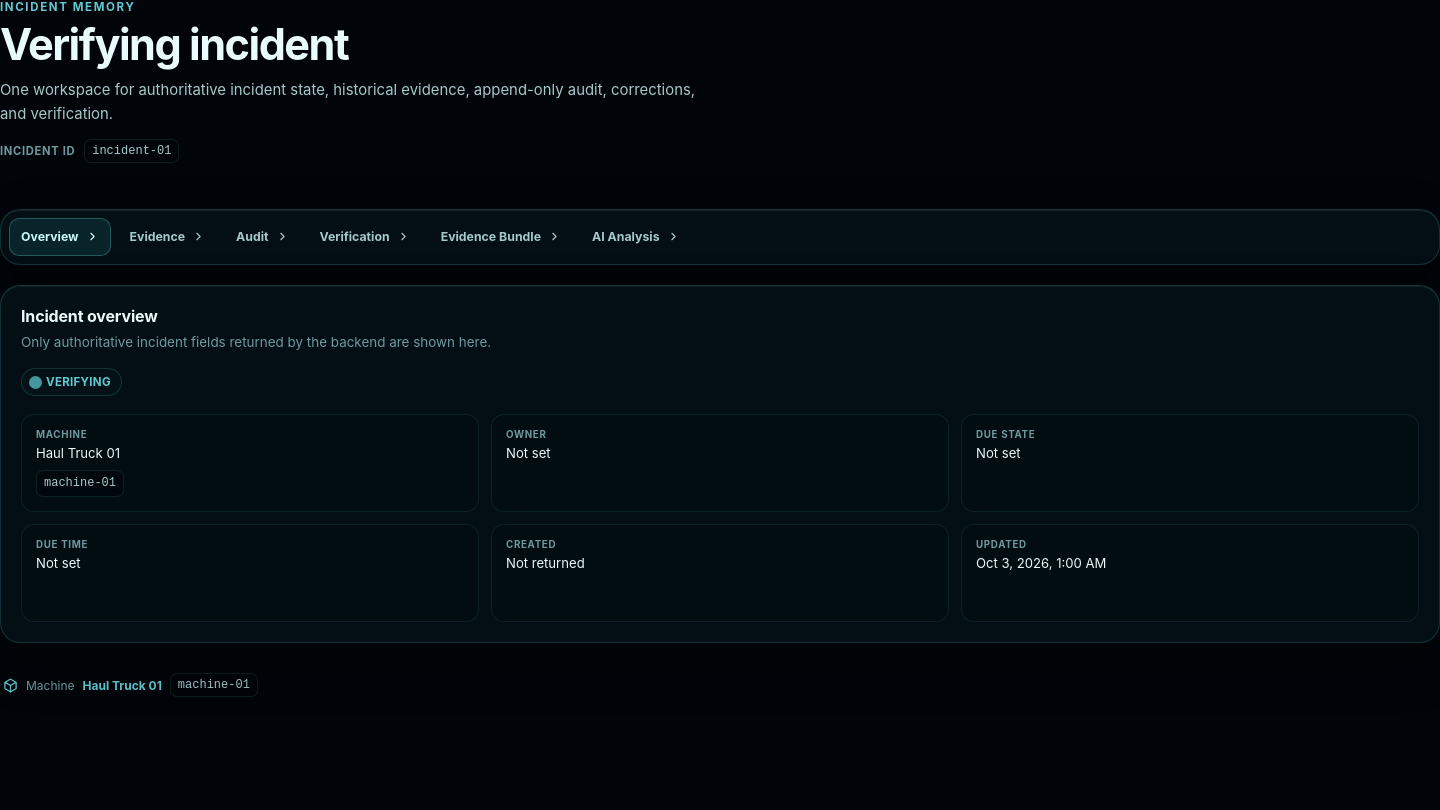
IncidentDetailPage authoritative actions › never posts evaluate-due automatically and refreshes authoritative state after deliberate evaluation
What coordinates should you click on to do the following:
click the button "Verification"
I would click on:
 (365, 237)
Its box is [308,218,422,256].
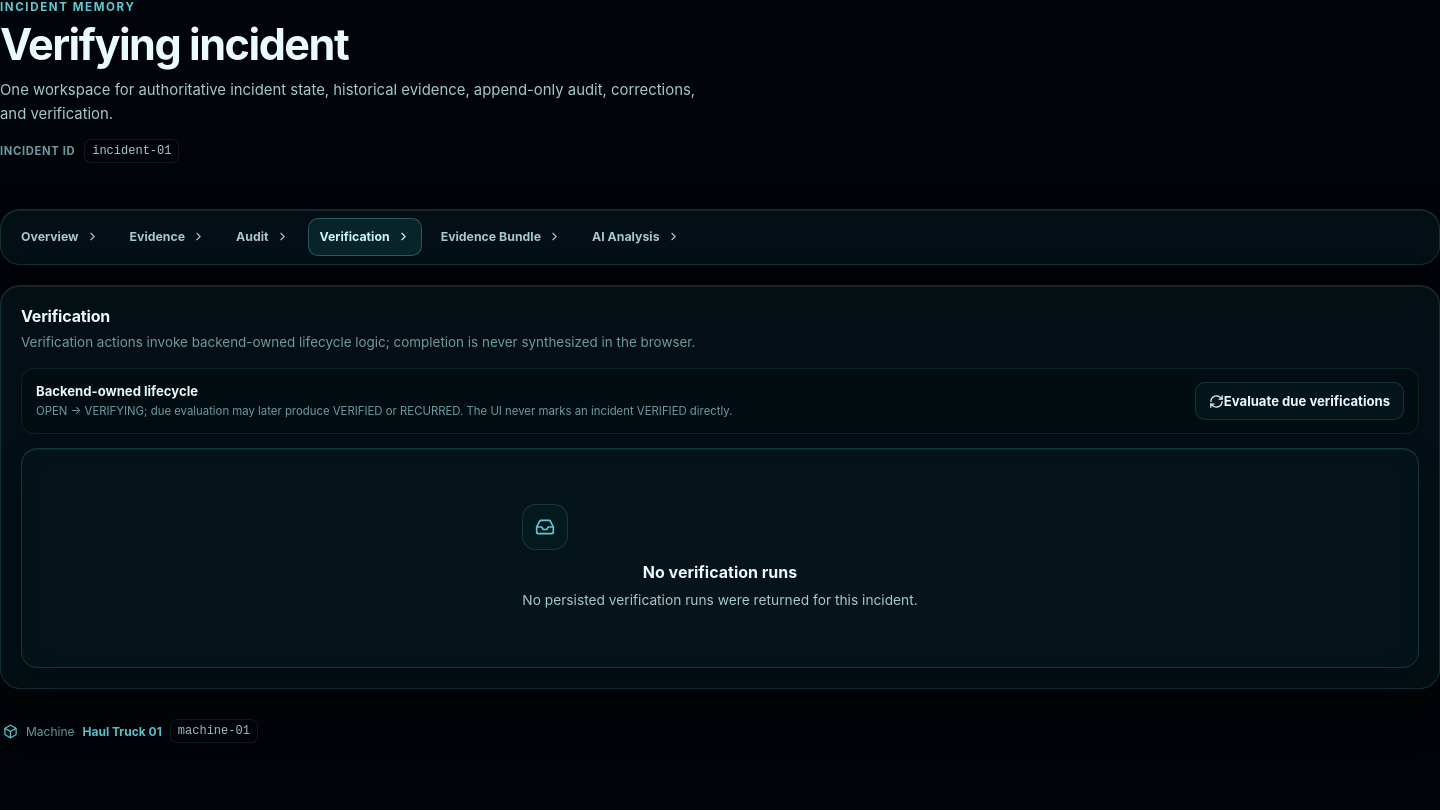
What coordinates should you click on to do the following:
click the button "Evaluate due verifications"
I would click on:
 (1299, 401)
Its box is [1195,382,1404,420].
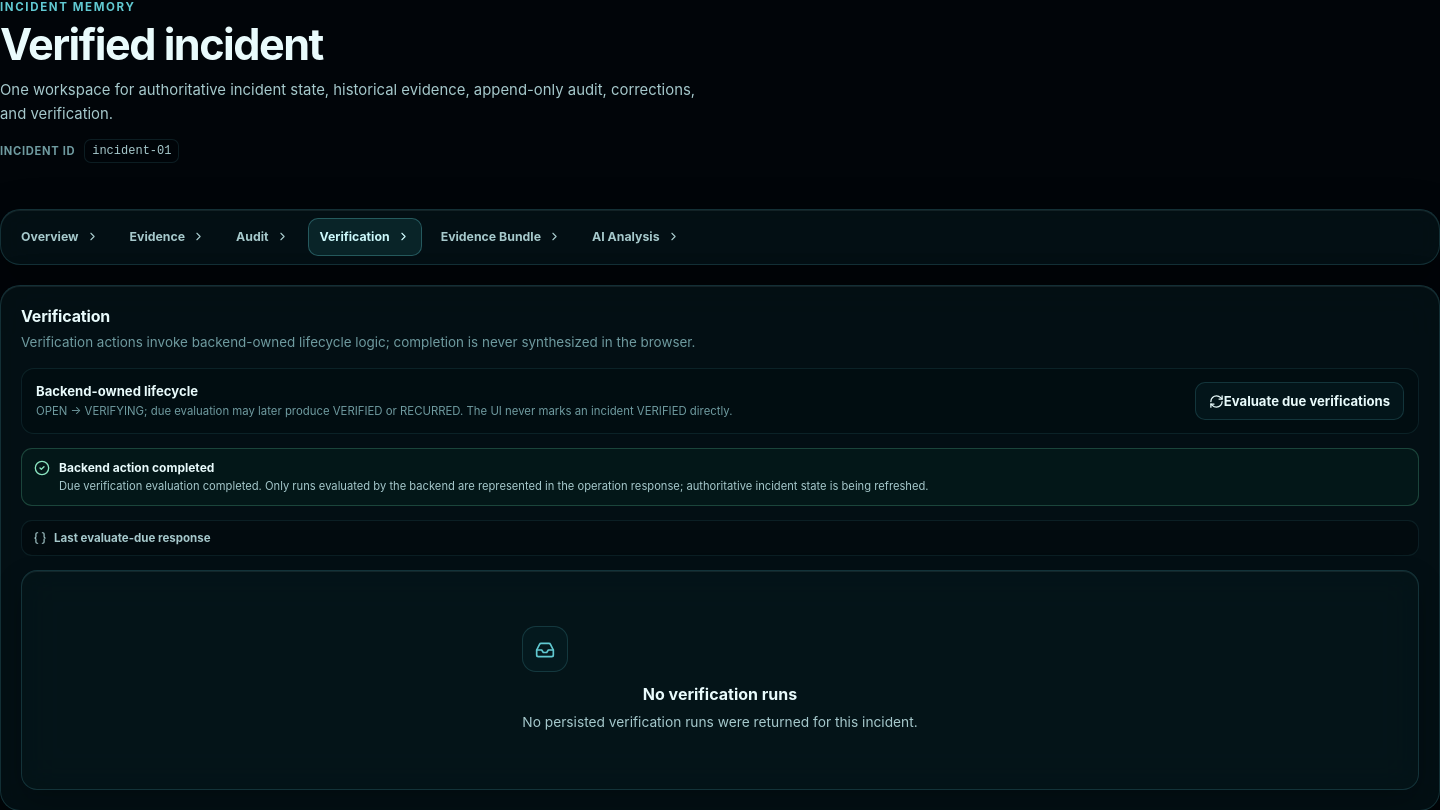
Now the text "Due verification evaluation completed" is shown, box [59,479,929,493]
